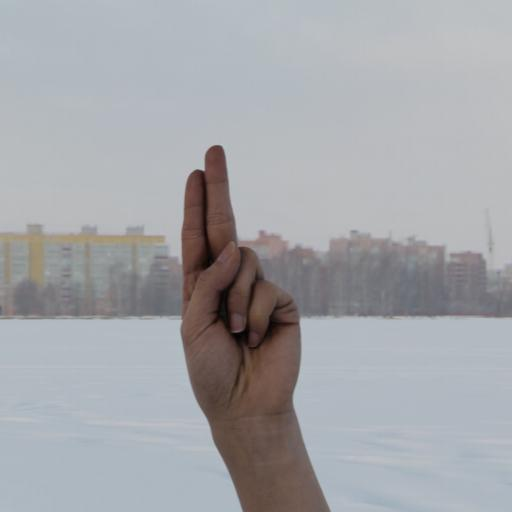U: (180, 141, 304, 434)
